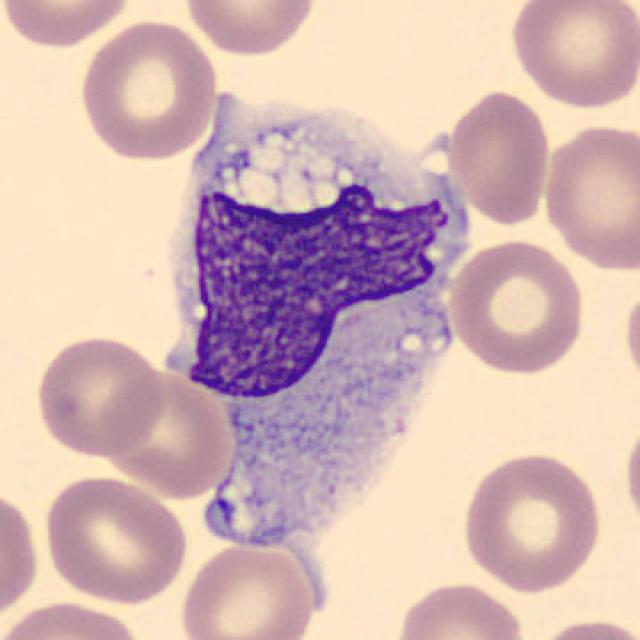Monocyte: (148, 72, 482, 536)
RBC: (457, 448, 606, 594), (74, 16, 220, 162), (444, 235, 588, 378), (39, 471, 190, 606), (96, 363, 238, 501), (30, 332, 167, 458), (442, 86, 554, 228), (539, 120, 638, 271), (505, 0, 638, 111), (176, 539, 320, 640), (391, 578, 530, 640), (180, 0, 320, 58), (0, 0, 137, 51), (0, 596, 148, 640), (0, 481, 43, 626), (528, 613, 640, 640), (620, 409, 640, 541), (620, 277, 640, 398)
